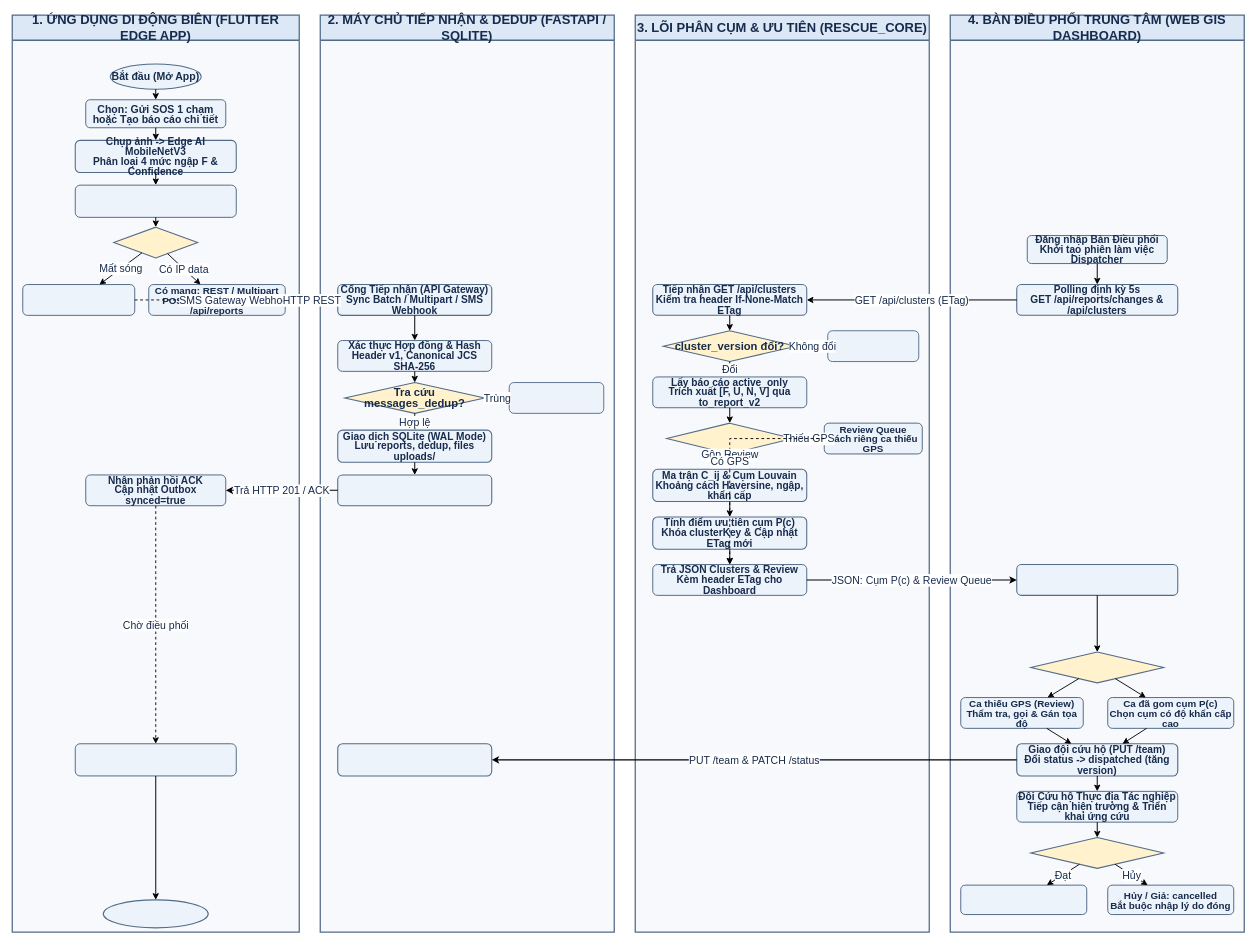
Image size: 1257x944. Some labels were removed from this diagram. Here are the shapes that lost their labels. From the top down, the centre of each, then its label:
At [155,200]: "Nhập GPS (hoặc để trống), N, V Ghi Outbox (Hive) & Canonical JCS Hash".
At [155,242]: "Đánh giá mạng?".
At [78,299]: "Mất mạng: Gửi SMS SOS Dự phòng GSM (chờ sync)".
At [873,346]: "304 Not Modified Giữ nguyên cụm cũ".
At [556,397]: "Trùng ID & Hash Trả ACK cũ (Idempotent)".
At [729,438]: "Tọa độ GPS hợp lệ?".
At [414,490]: "Tăng cluster_version server_meta & Trả HTTP Response".
At [1097,580]: "Cập nhật Leaflet GIS & Bảng Cụm Hiển thị ranh giới cụm & Hàng xem xét".
At [1097,667]: "Phân loại ca xử lý?".
At [155,759]: "Polling GET /api/reports/status Nhận cập nhật tiến trình điều phối".
At [414,759]: "Cập nhật DB & Ghi report_events Nhật ký kiểm toán (actor, action, time)".
At [1097,853]: "Kết quả cứu hộ?".
At [155,913]: "Kết thúc (Được cứu)".
At [1023,899]: "Thành công: resolved Cập nhật cứu hộ hoàn tất".
